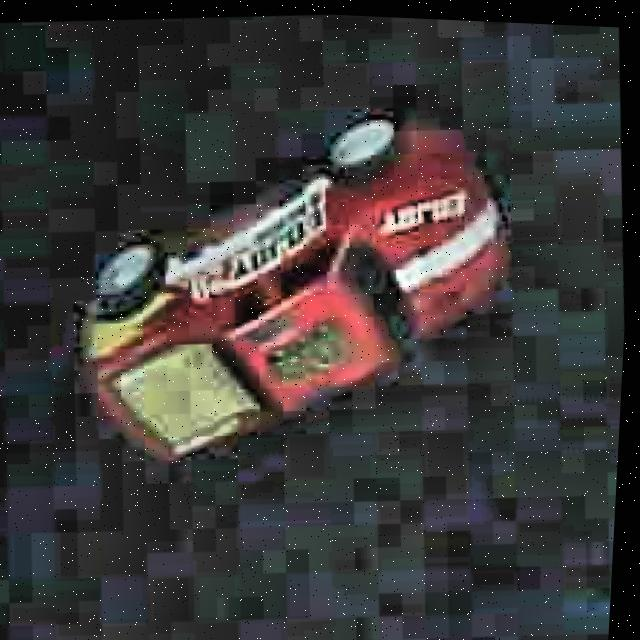car: (51, 82, 539, 490)
